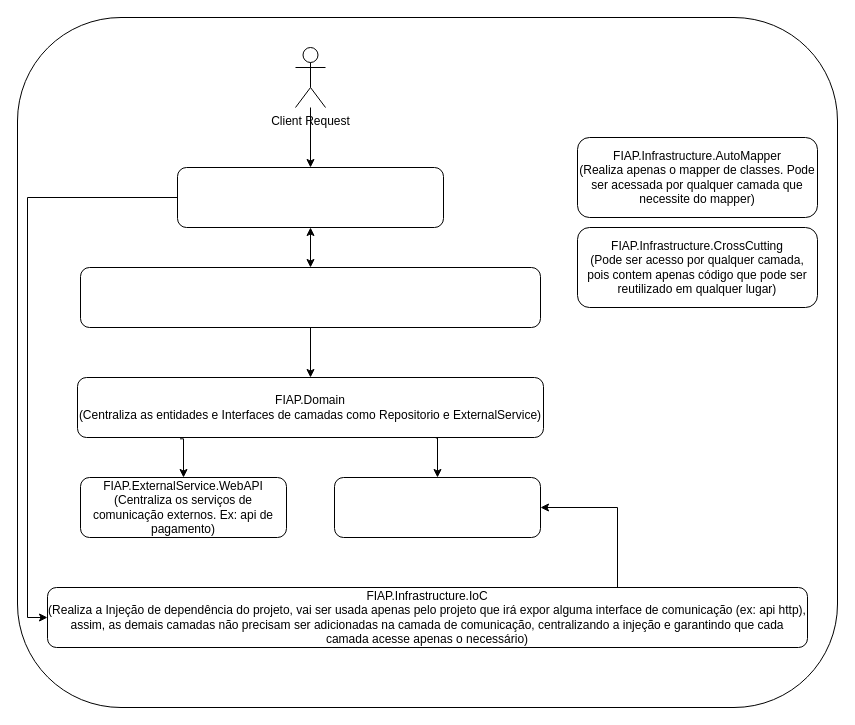
The diagram is 855 pixels wide and 725 high, and some of its shapes have lost their labels. Each missing label, with the centre of its shape:
FIAP.Application (Contem os Use Cases): point 310,297
FIAP.Infrastructure.Data (Contem os repósitórios, mapeamentos de tabelas): point 437,507
FIAP.Presentation.API (Camada de comunicação com os clientes, controllers): point 310,197
